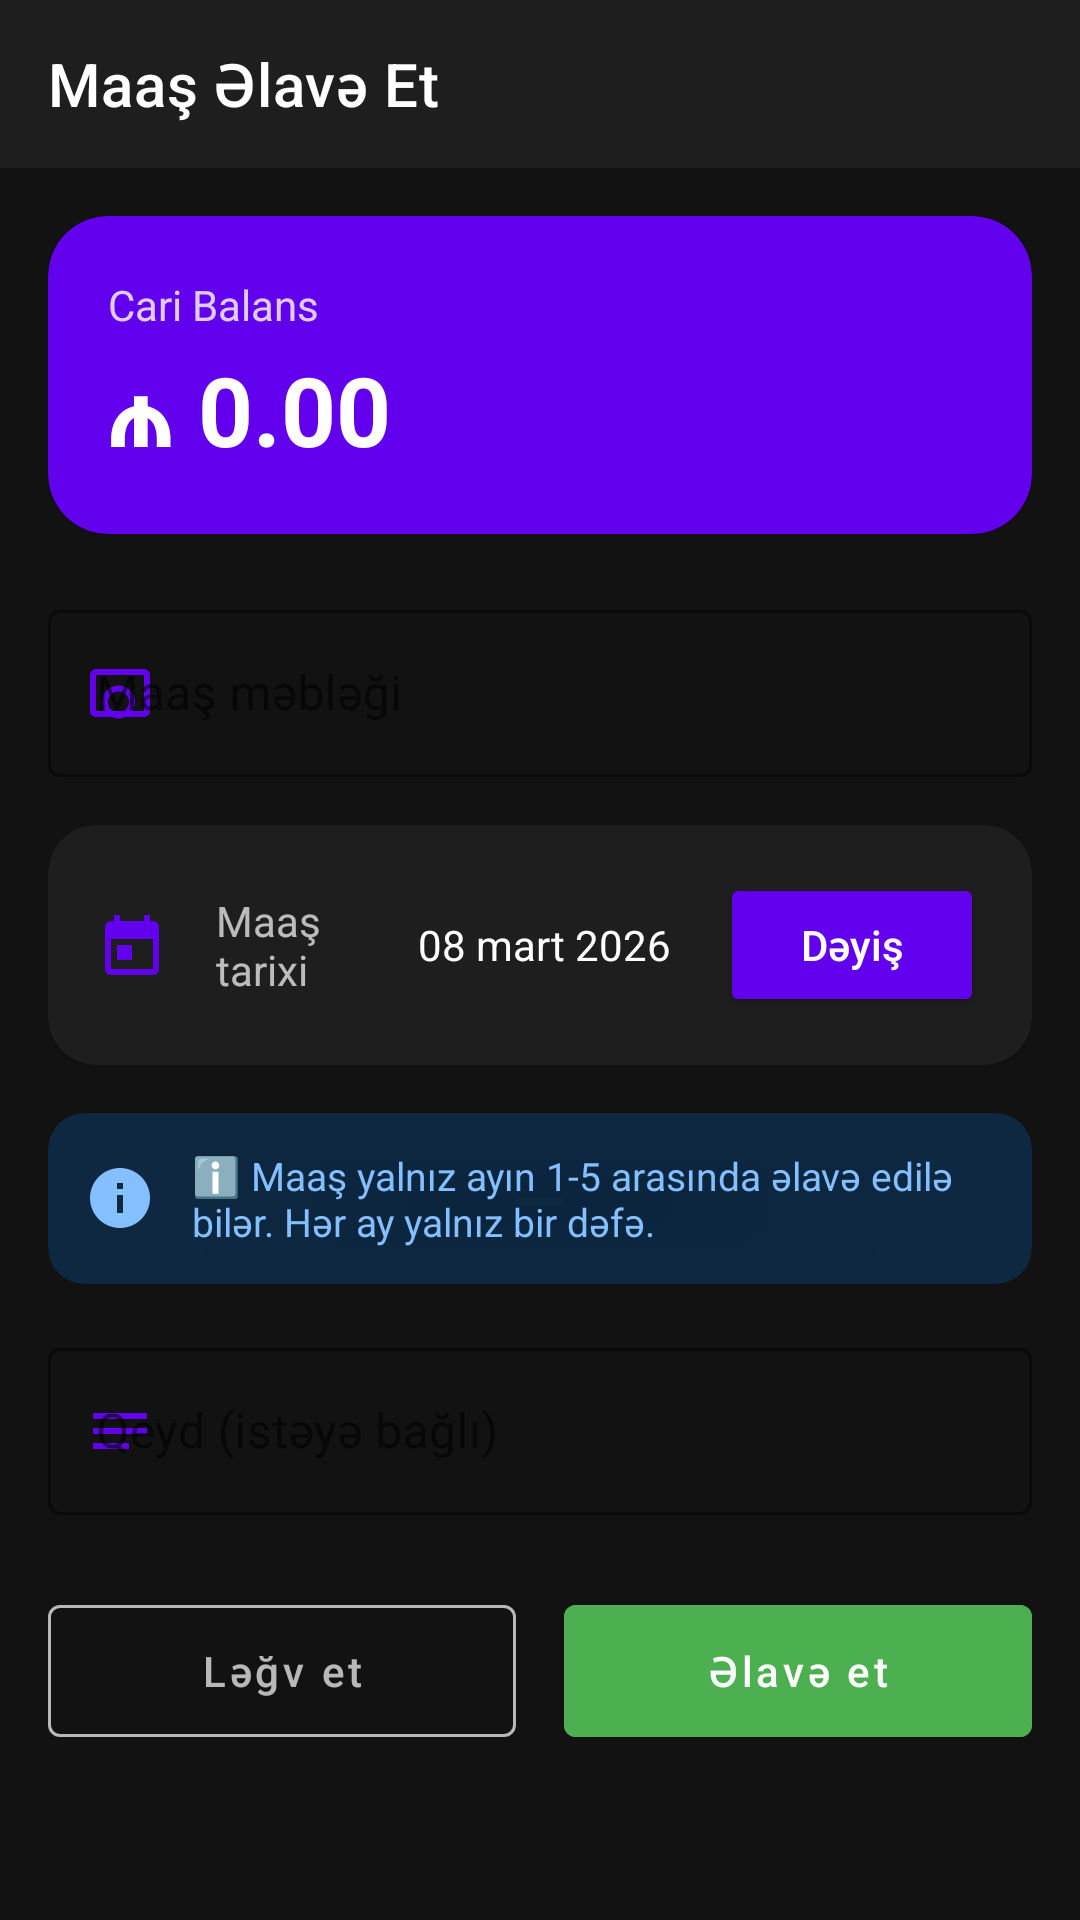

Icons on this 1080px×1920px Android screen, each with the point to tap as (x,y):
calendar: (132,945)
info: (120,1198)
